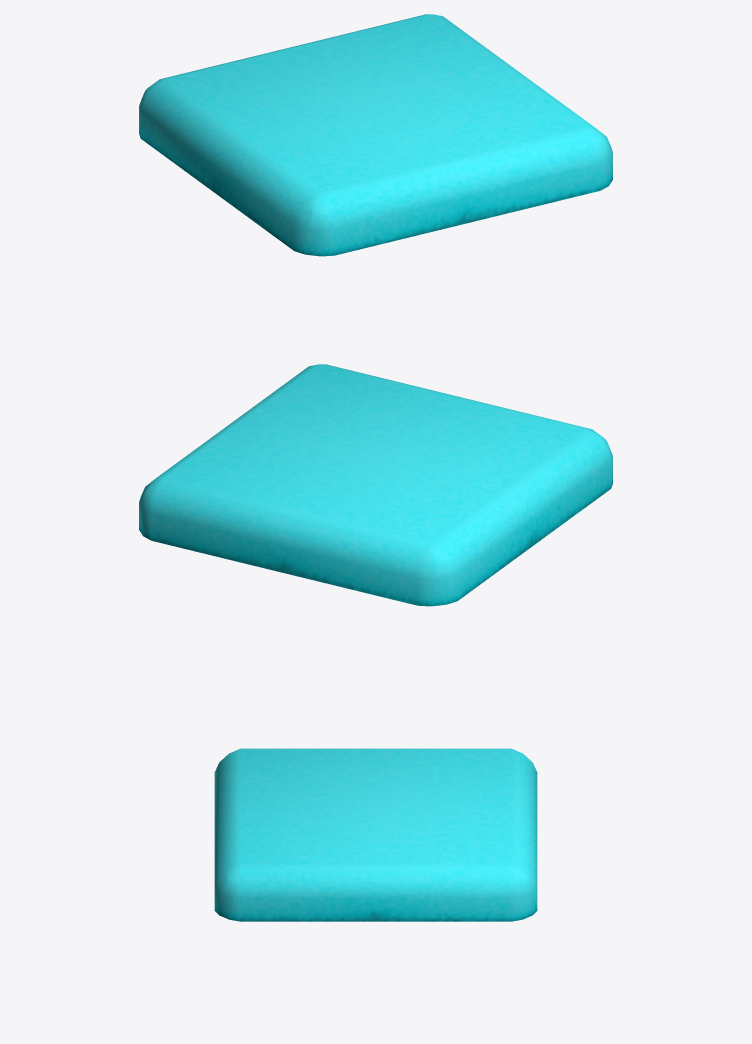
Rendered from EnergyCube.fbx.
3 views of the same model, one above another, from view 1: azimuth 30°, elevation 25°; view 2: azimuth 150°, elevation 25°; view 3: azimuth 270°, elevation 25° (orthographic). The views are drawn at different scales.
Visible parts, largest first — view 1: EnergyCube; view 2: EnergyCube; view 3: EnergyCube.
Boxes of the visible parts, box(x1,y1,x2,y2) form: EnergyCube: box(139, 14, 612, 256); EnergyCube: box(139, 364, 612, 606); EnergyCube: box(214, 748, 537, 921).
Size of the model in its own units: 4.49 by 0.4814 by 4.49.
1 material, 1 textured.
